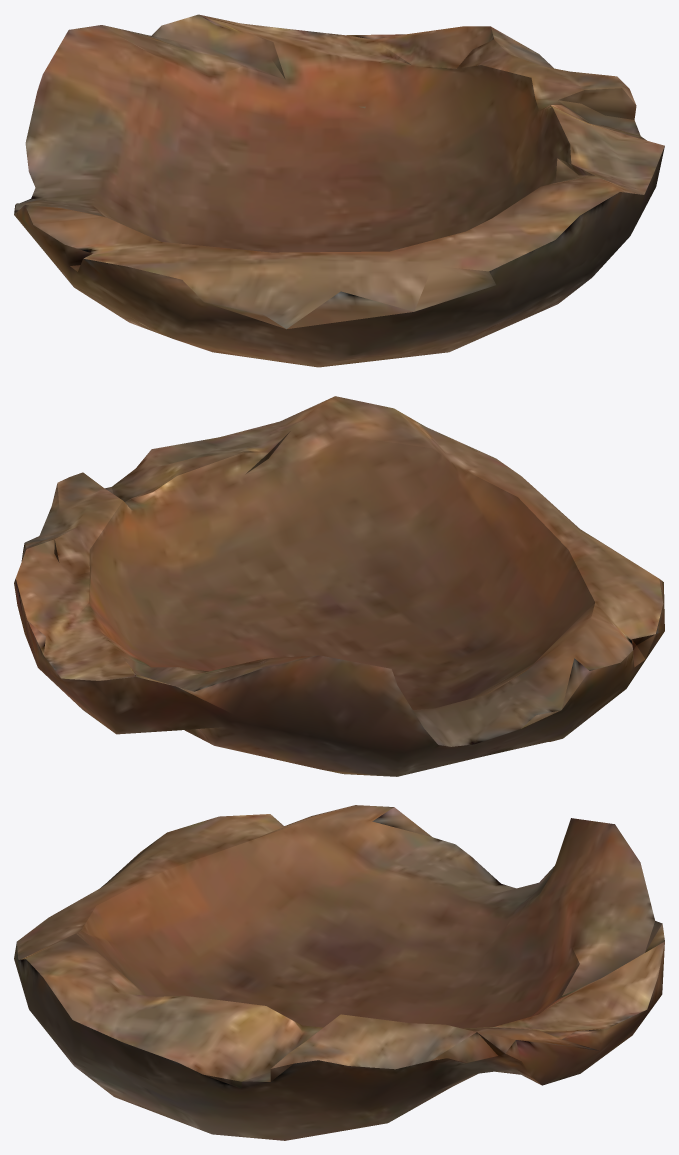
Rendered from bowl.glb.
The picture shows the model from 3 angles, top to bottom: view 1: azimuth 30°, elevation 25°; view 2: azimuth 150°, elevation 25°; view 3: azimuth 270°, elevation 25°; orthographic projection. The views are drawn at different scales.
Visible parts, largest first — view 1: bowl; view 2: bowl; view 3: bowl.
Part boxes in pixels (x1=…): bowl: x1=14, y1=14, x2=664, y2=367; bowl: x1=14, y1=396, x2=664, y2=776; bowl: x1=14, y1=805, x2=664, y2=1140.
Bounding box in the file's own units: 0.3134 × 0.0938 × 0.3089.
Materials: 1 (1 with a texture image).
